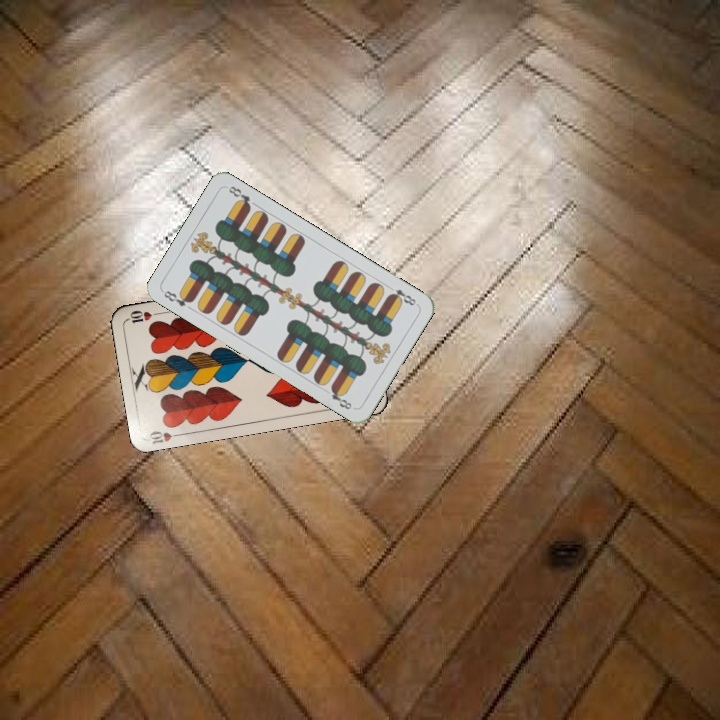E8: (160, 286, 196, 309), (385, 285, 420, 308)
H10: (145, 427, 186, 446)
